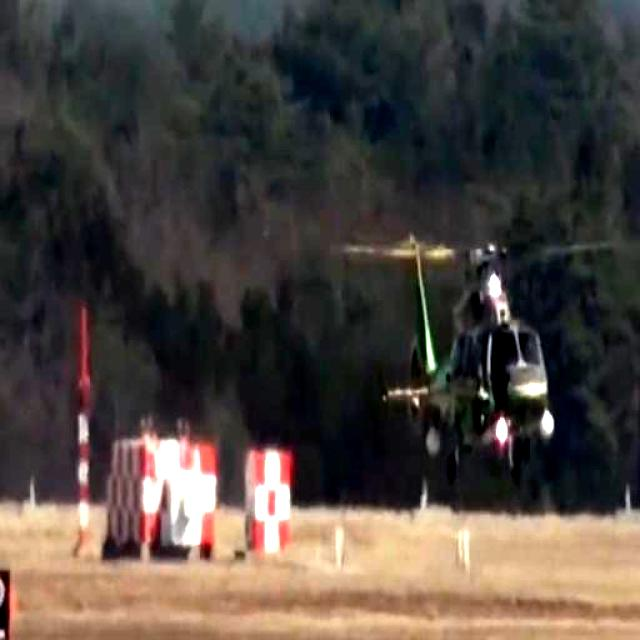drone: (364, 211, 575, 492)
